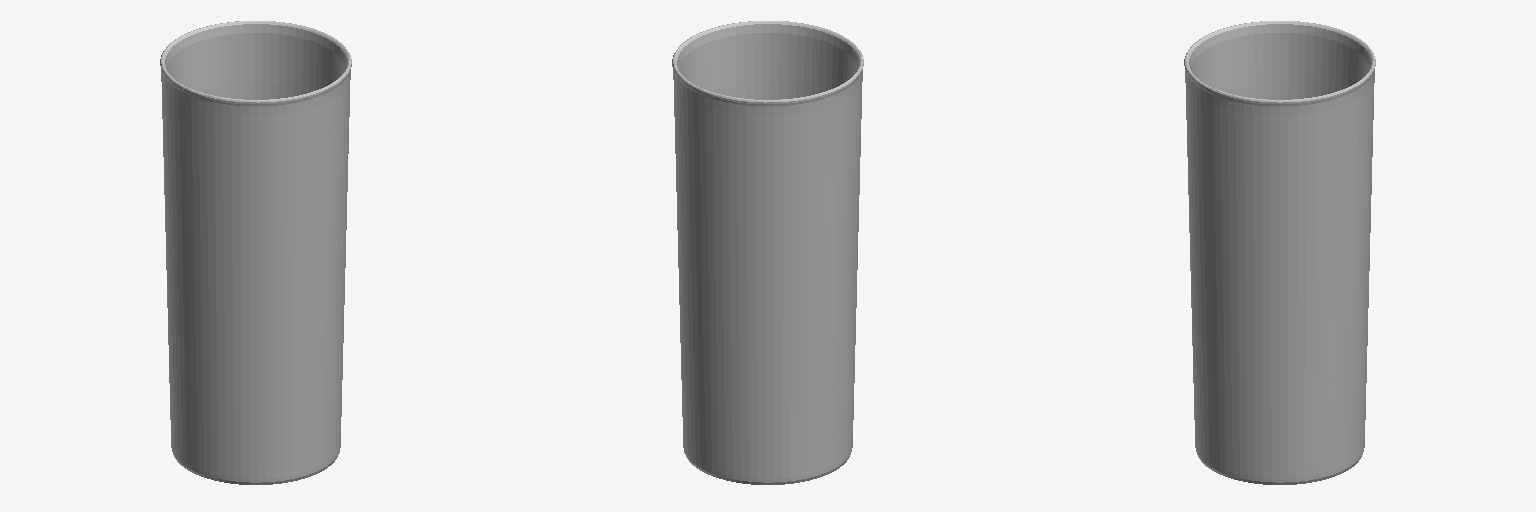
File: glass.obj
The picture shows the model from 3 angles: view 1: azimuth 30°, elevation 25°; view 2: azimuth 150°, elevation 25°; view 3: azimuth 270°, elevation 25°; orthographic projection.
Visible parts, largest first — view 1: glass.001; view 2: glass.001; view 3: glass.001.
Boxes of the visible parts, <box> form: glass.001: <box>160,21,351,484</box>; glass.001: <box>672,21,863,484</box>; glass.001: <box>1184,21,1375,484</box>.
Size of the model in its own units: 0.0545 by 0.1228 by 0.0545.